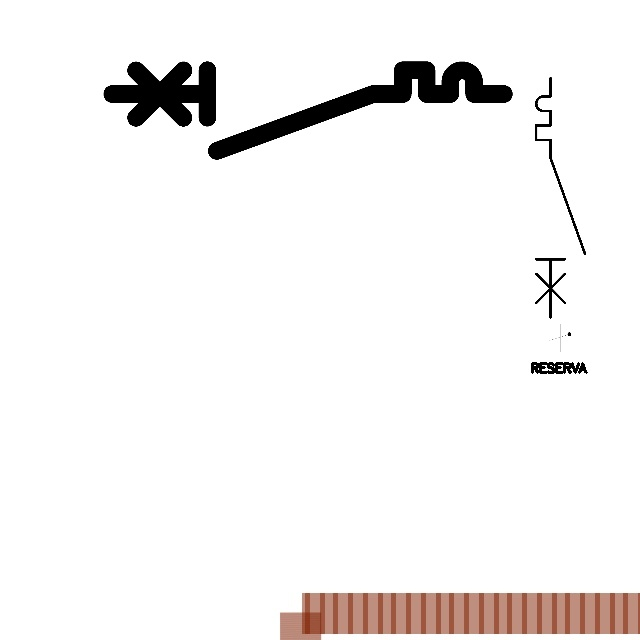interruptor_termomagnetico: (102, 60, 514, 161), (530, 72, 591, 324)
